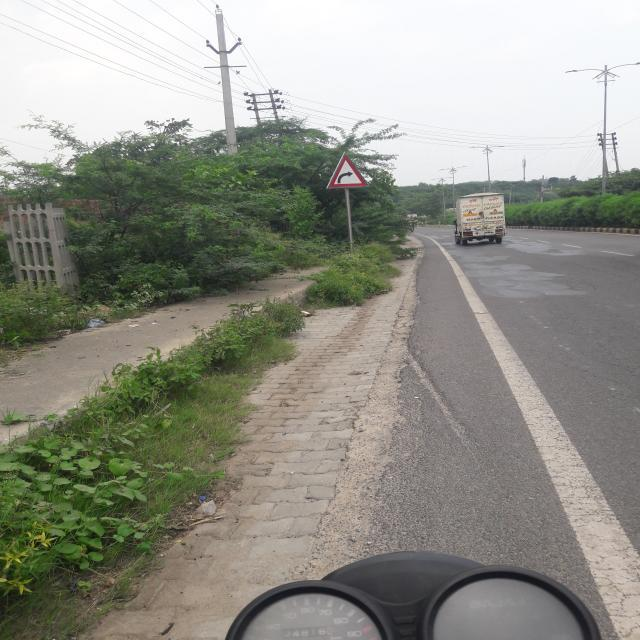right hand curve: (326, 153, 366, 188)
